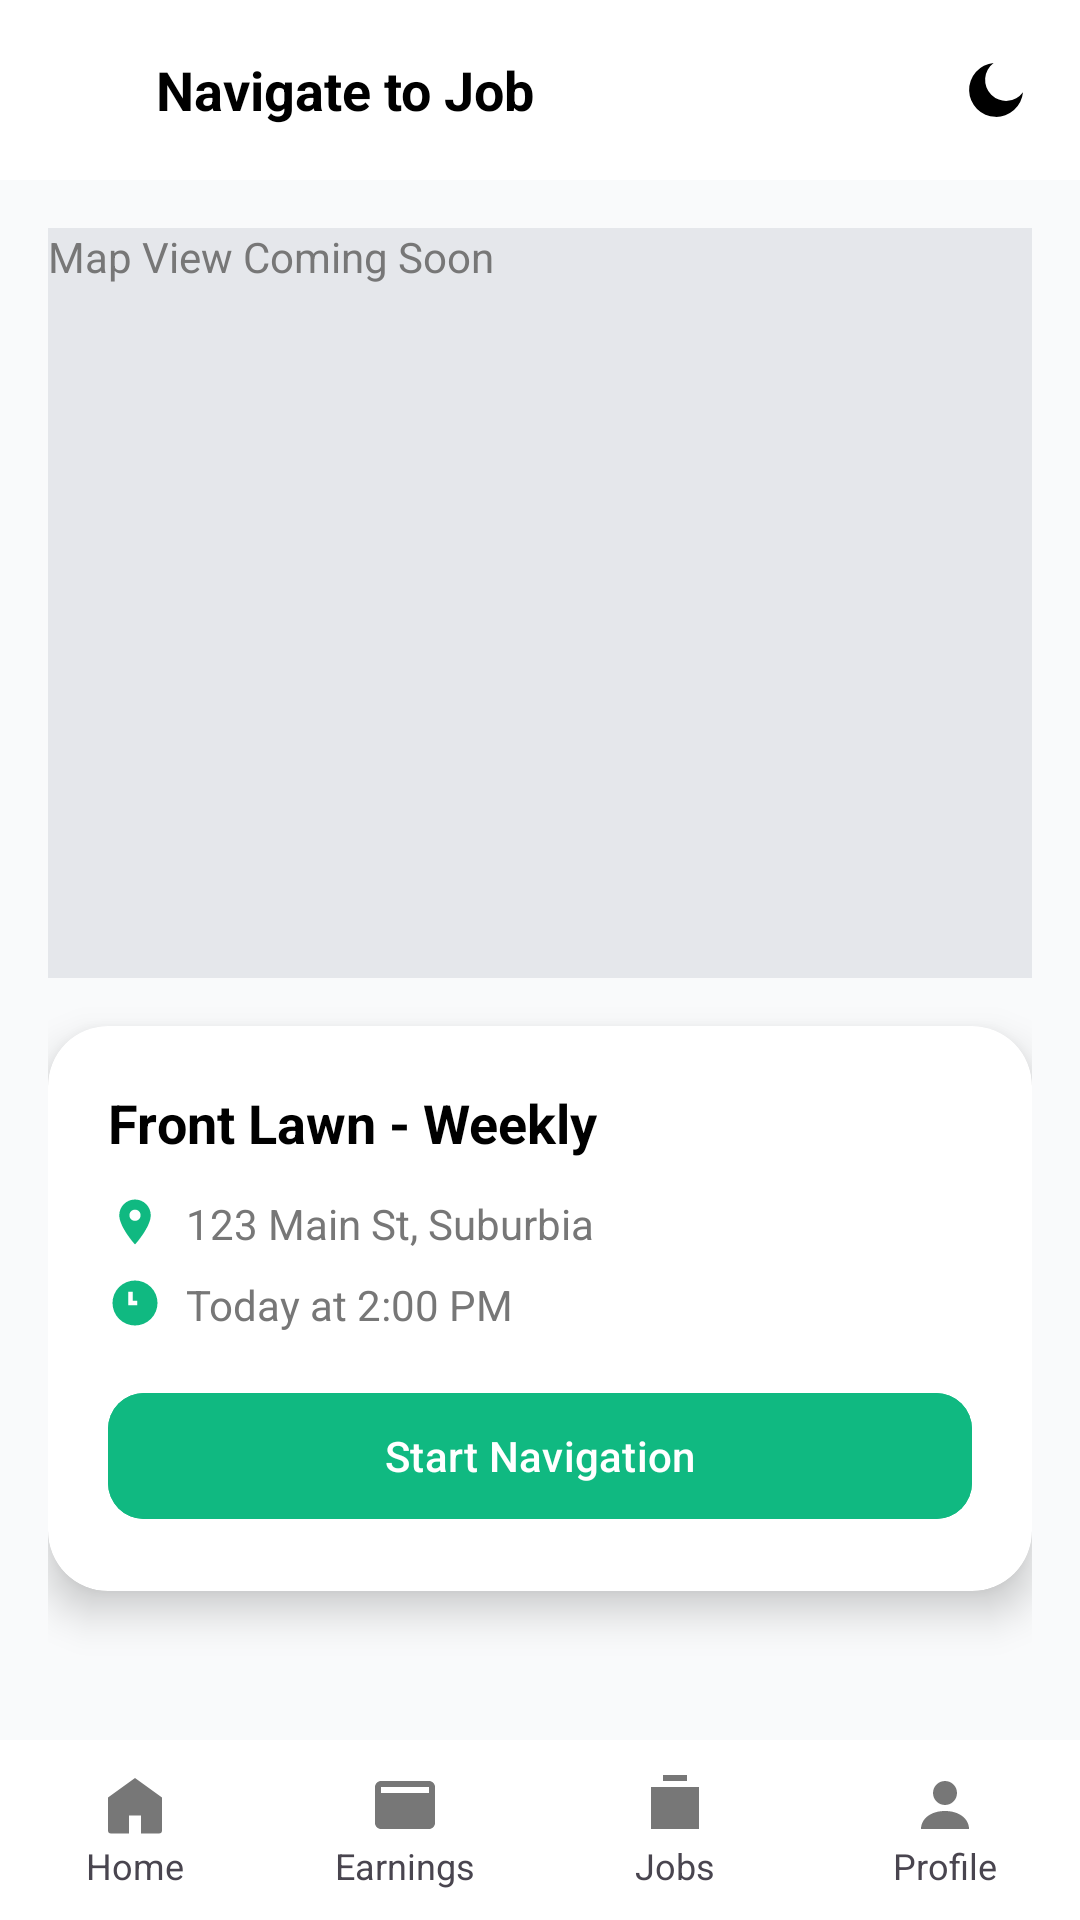

Where to tap for icons on this 1080×1920 app screen, as (x=x, y=y):
clock: (x=135, y=1303)
location: (x=135, y=1221)
moon: (x=996, y=90)
payment: (x=405, y=1805)
